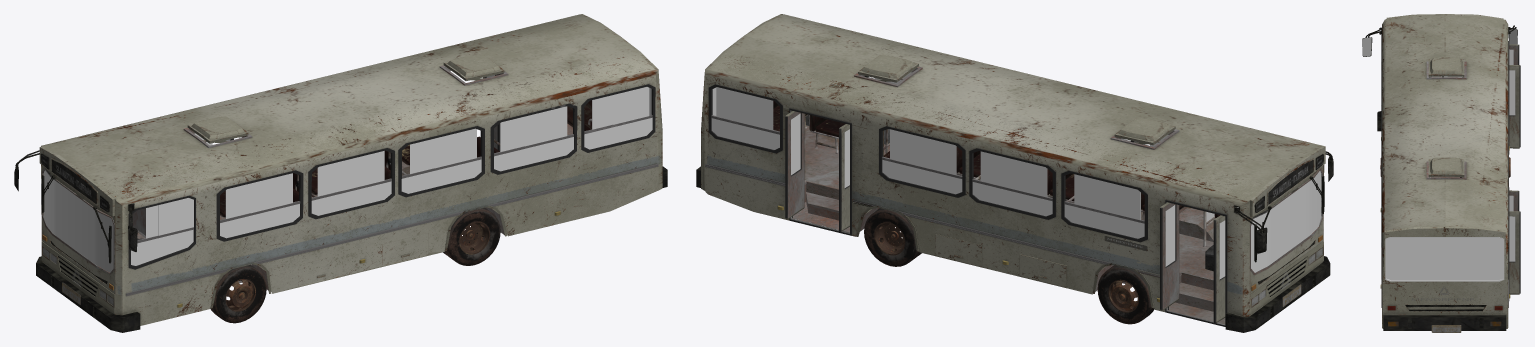
The model's file is uploads_files_2236580_Bus.fbx.
3 views of the same model, side by side, from view 1: azimuth 30°, elevation 25°; view 2: azimuth 150°, elevation 25°; view 3: azimuth 270°, elevation 25° (orthographic). The views are drawn at different scales.
Visible parts, largest first — view 1: structure, under window, structure windows, front windshield, Wheel back.001, Wheel front.001, bumper front, plate headlight, side strip, higher_glass.010, higher_glass.014, higher_glass.016 (+13 smaller); view 2: structure, under window, structure windows, front windshield, Wheel front, Wheel back, door.002, door.001, bumper front, plate headlight, door, higher_glass.002 (+15 smaller); view 3: structure, rear windshield, bumper back, door.002, door.001, air input.001, air input, structure windows, rearview mirror.001, plate.001, door.003, door (+3 smaller).
Part boxes in pixels (left/top/right/bottom): structure: left=39, top=14, right=662, bottom=325; under window: left=131, top=117, right=652, bottom=265; structure windows: left=128, top=84, right=655, bottom=269; front windshield: left=41, top=168, right=114, bottom=274; Wheel back.001: left=445, top=207, right=500, bottom=265; Wheel front.001: left=210, top=264, right=266, bottom=323; bumper front: left=36, top=256, right=140, bottom=332; plate headlight: left=41, top=240, right=121, bottom=314; side strip: left=126, top=163, right=658, bottom=296; higher_glass.010: left=525, top=106, right=567, bottom=146; higher_glass.014: left=250, top=173, right=292, bottom=213; higher_glass.016: left=342, top=151, right=384, bottom=190; structure: left=701, top=14, right=1325, bottom=326; under window: left=711, top=118, right=1144, bottom=238; structure windows: left=708, top=76, right=1152, bottom=242; front windshield: left=1250, top=168, right=1323, bottom=275; Wheel front: left=1097, top=265, right=1154, bottom=324; Wheel back: left=864, top=208, right=919, bottom=266; door.002: left=785, top=111, right=804, bottom=219; door.001: left=1160, top=202, right=1179, bottom=310; bumper front: left=1225, top=256, right=1330, bottom=332; plate headlight: left=1246, top=241, right=1323, bottom=314; door: left=1213, top=215, right=1225, bottom=323; higher_glass.002: left=1005, top=157, right=1047, bottom=197; structure: left=1382, top=14, right=1509, bottom=328; rear windshield: left=1385, top=237, right=1504, bottom=281; bumper back: left=1383, top=315, right=1506, bottom=330; door.002: left=1509, top=211, right=1520, bottom=294; door.001: left=1509, top=65, right=1520, bottom=148; air input.001: left=1428, top=57, right=1464, bottom=76; air input: left=1428, top=157, right=1464, bottom=176; structure windows: left=1381, top=35, right=1508, bottom=279; rearview mirror.001: left=1362, top=27, right=1381, bottom=56; plate.001: left=1431, top=325, right=1461, bottom=332; door.003: left=1509, top=190, right=1519, bottom=211; door: left=1509, top=44, right=1519, bottom=64.
Bounding box in the file's own units: 1275 × 352 × 382.
